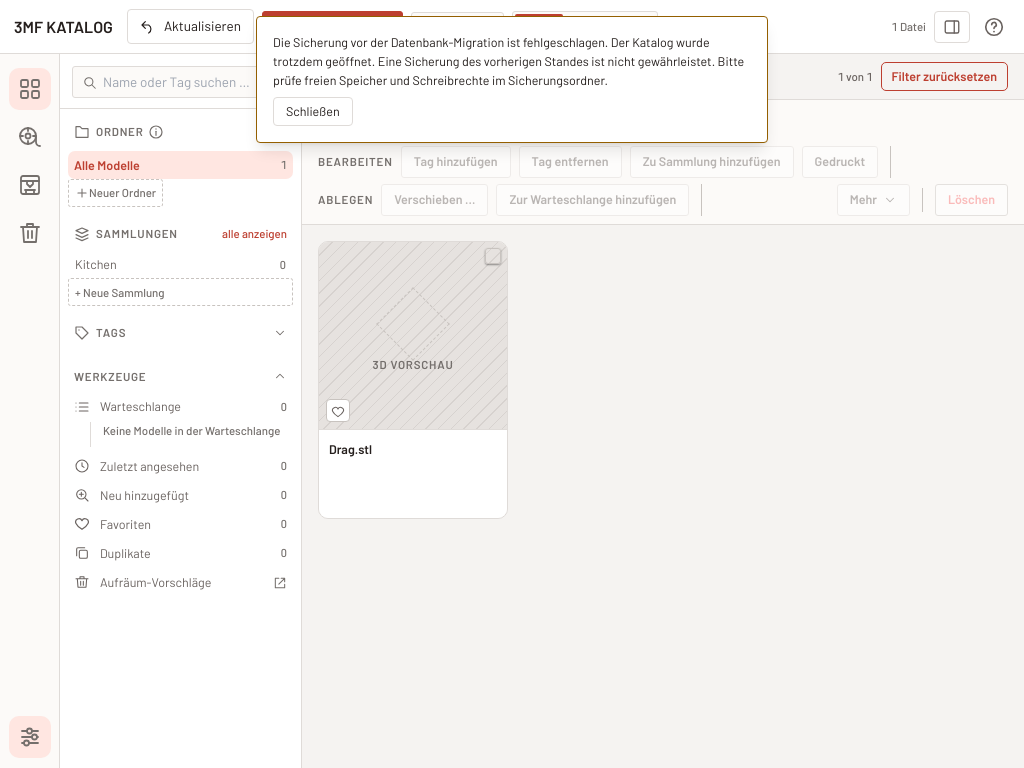
Test: marks collections as drop targets and updates counts without moving the model
Press the mouse on the row "3D Vorschau Drag.stl" at (413, 380), box [318,241,508,519]
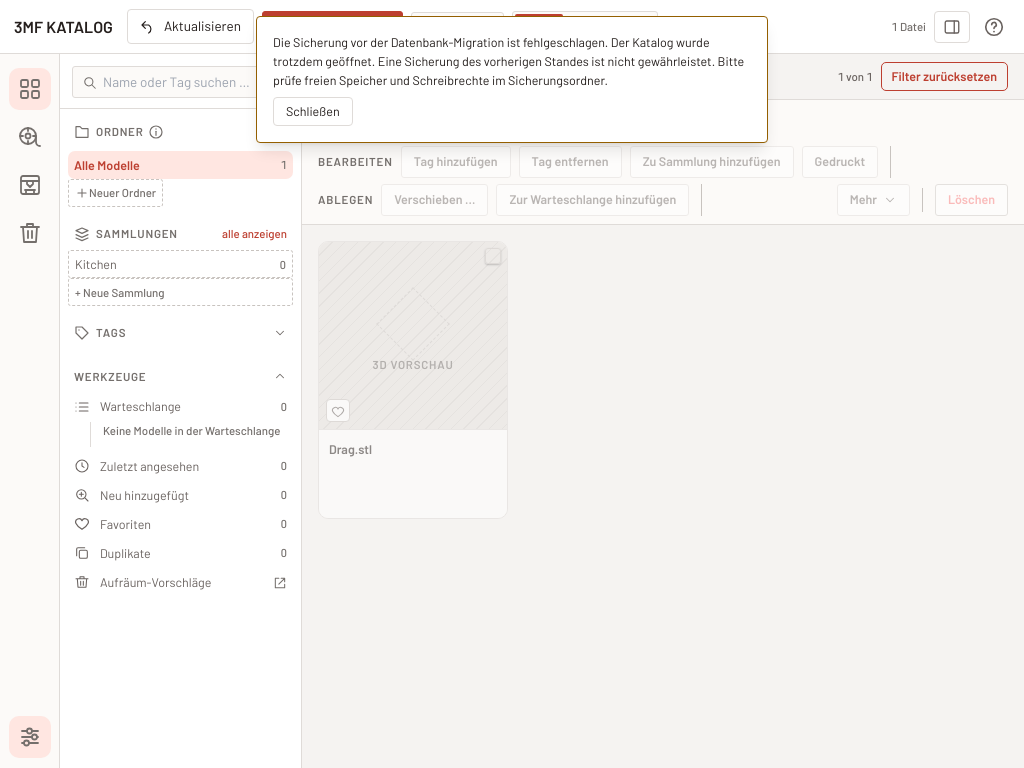
Hover over the button "Kitchen 0" at (180, 264), box [68,250,293,278]
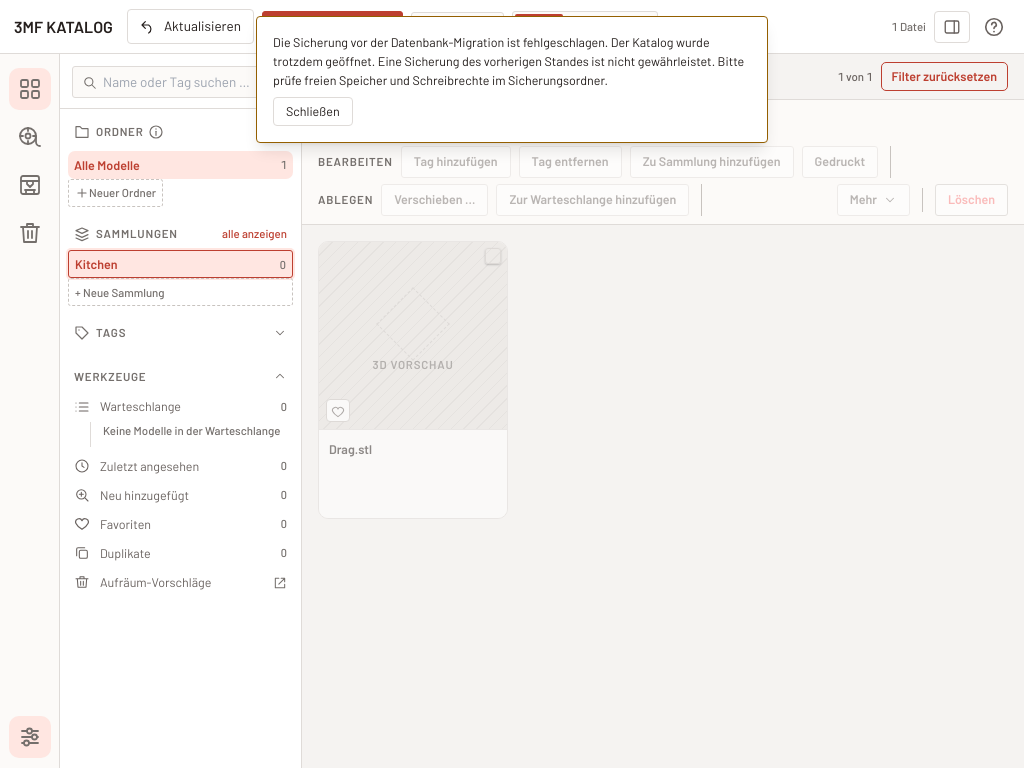
Expected: the button "Kitchen 0" has class "border-[var(--accent)]" "bg-[var(--accent-soft)]"
Move the pointer off the button "Kitchen 0", box [68,250,293,278]
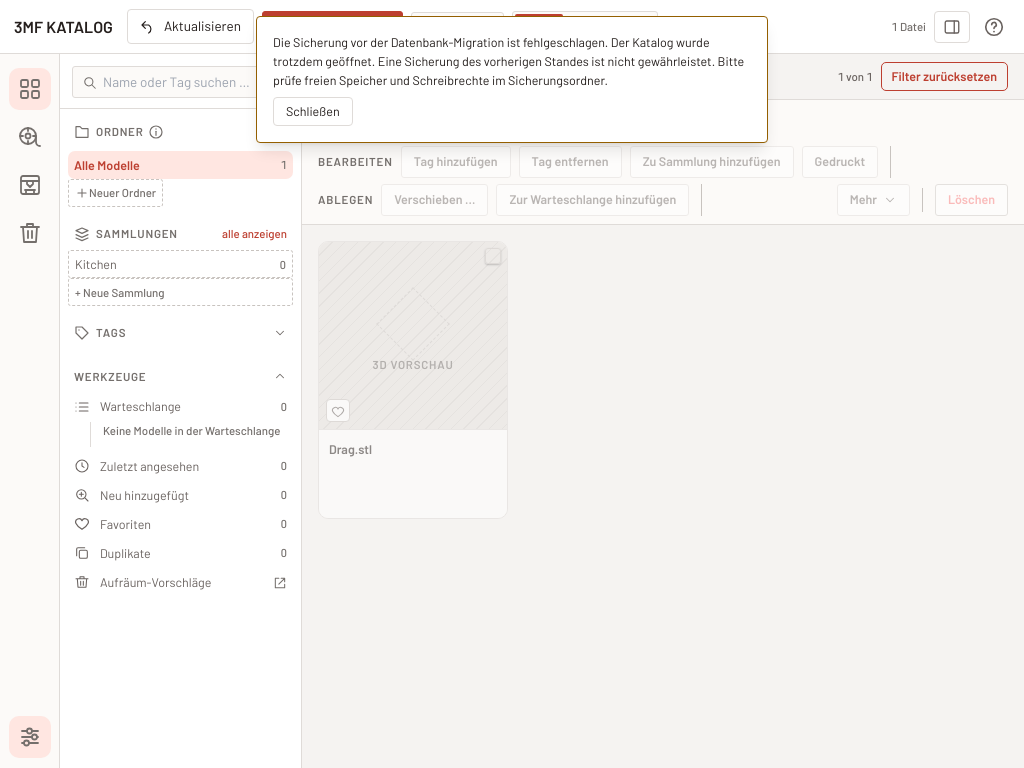
Expected: the button "Kitchen 0" has class "border-dashed"
Hover over the button "Kitchen 0" at (180, 264), box [68,250,293,278]
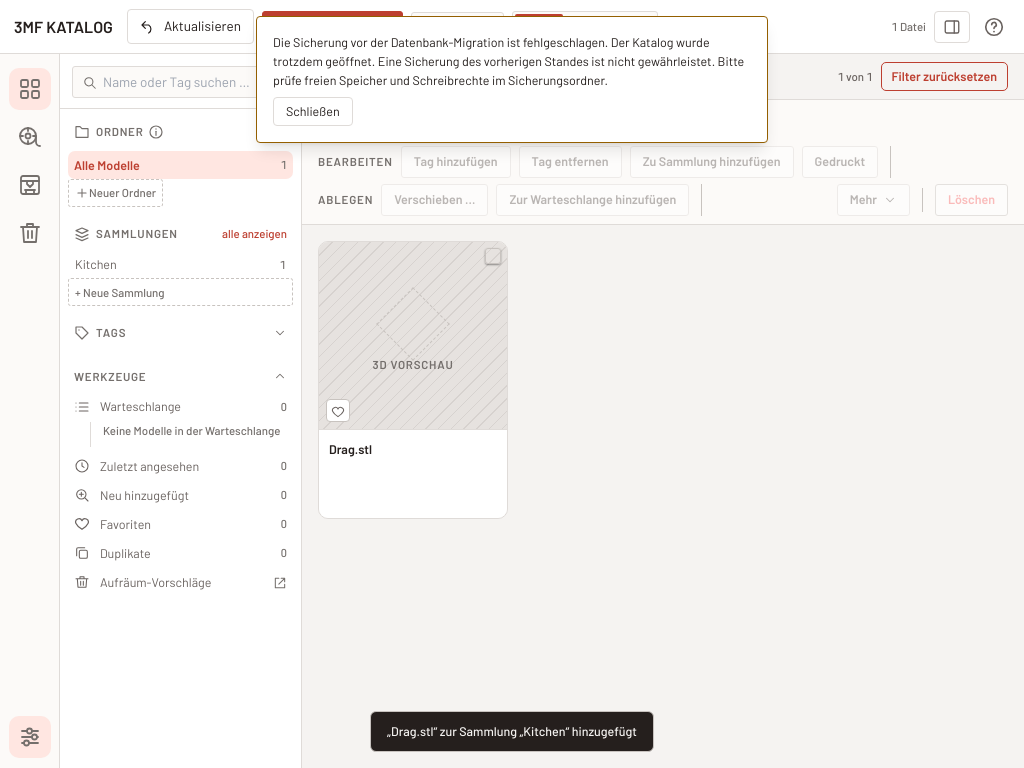
Expected: the button "Kitchen 1" is shown, [75,256,286,272]
Expected: the message "„Drag.stl“ zur Sammlung „Kitchen“ hinzugefügt" is shown, [370,711,654,752]
Click the text "alle anzeigen". click: (255, 234)
box: [222,225,287,242]
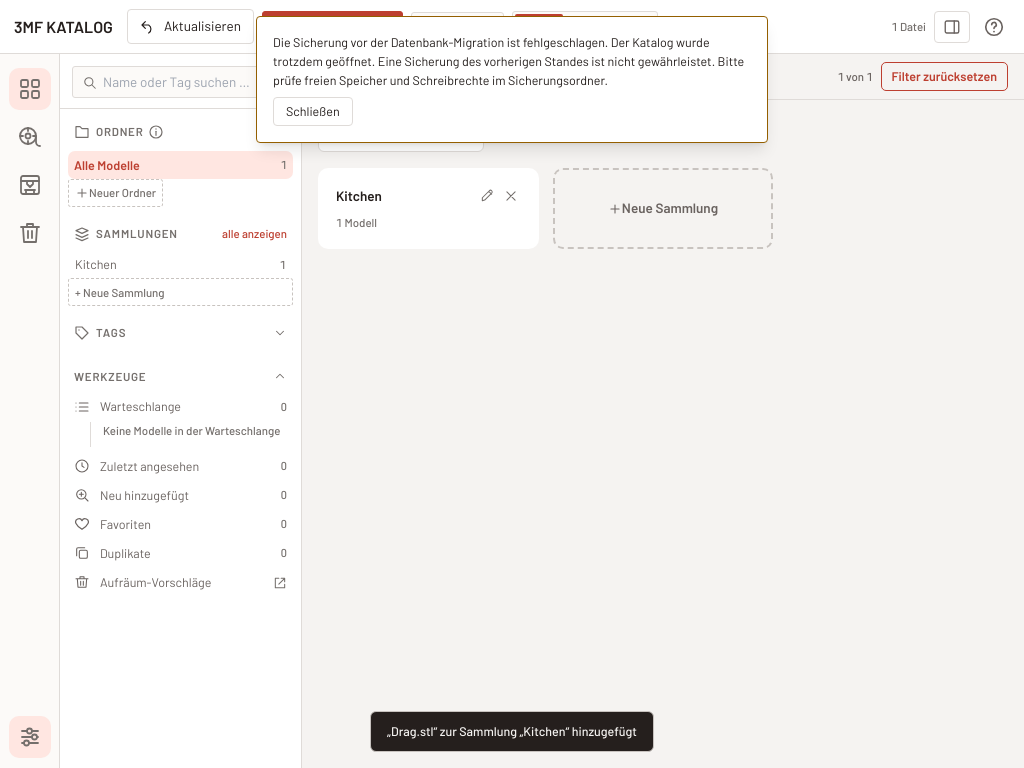
Expected: the element that starts with "Filter" shows "1 Modell", [336,215,377,229]
